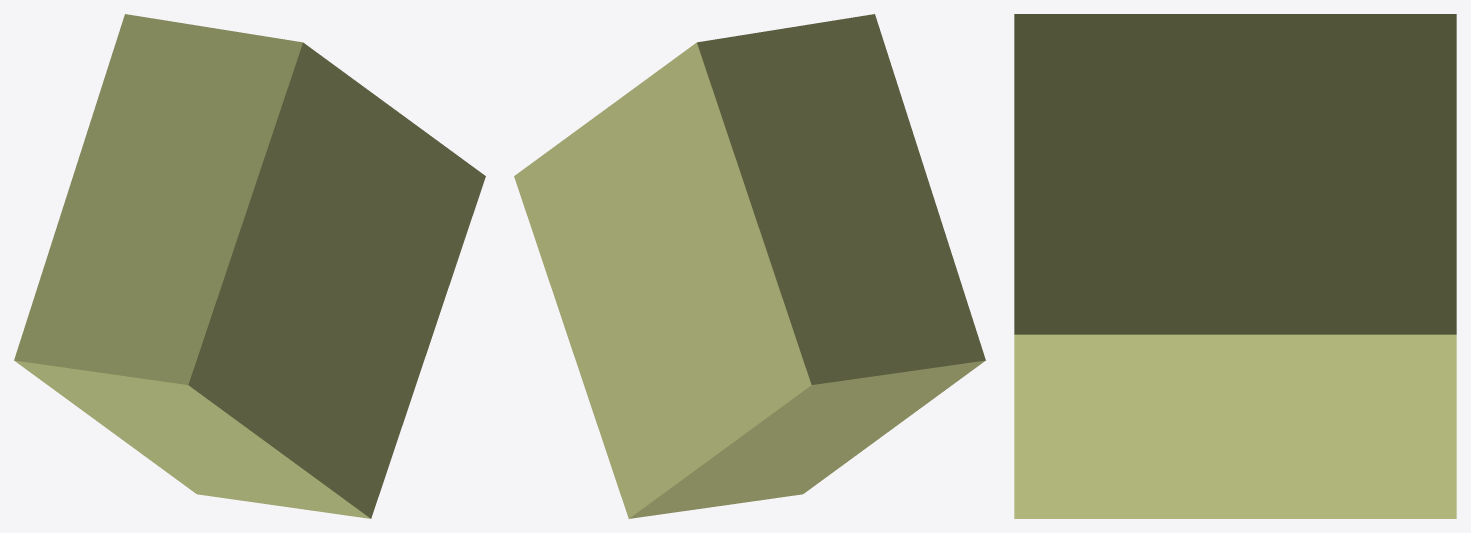
3 renders of one model, left to right at view 1: azimuth 30°, elevation 25°; view 2: azimuth 150°, elevation 25°; view 3: azimuth 270°, elevation 25°, orthographic. The views are drawn at different scales.
Parts seen in each view (by area): view 1: 0_0_1_2_3_0_0_0_3_1; view 2: 0_0_1_2_3_0_0_0_3_1; view 3: 0_0_1_2_3_0_0_0_3_1.
Part boxes in pixels (x1,y1,x2,y2): 0_0_1_2_3_0_0_0_3_1: (14, 14, 485, 518); 0_0_1_2_3_0_0_0_3_1: (514, 14, 985, 518); 0_0_1_2_3_0_0_0_3_1: (1014, 14, 1456, 518).
Size of the model in its own units: 8.22 by 10.5 by 9.
